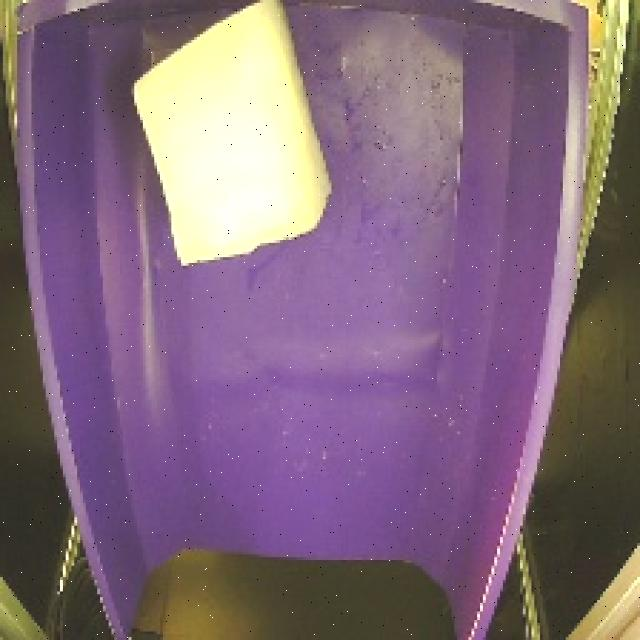white_radish: (113, 0, 343, 293)
